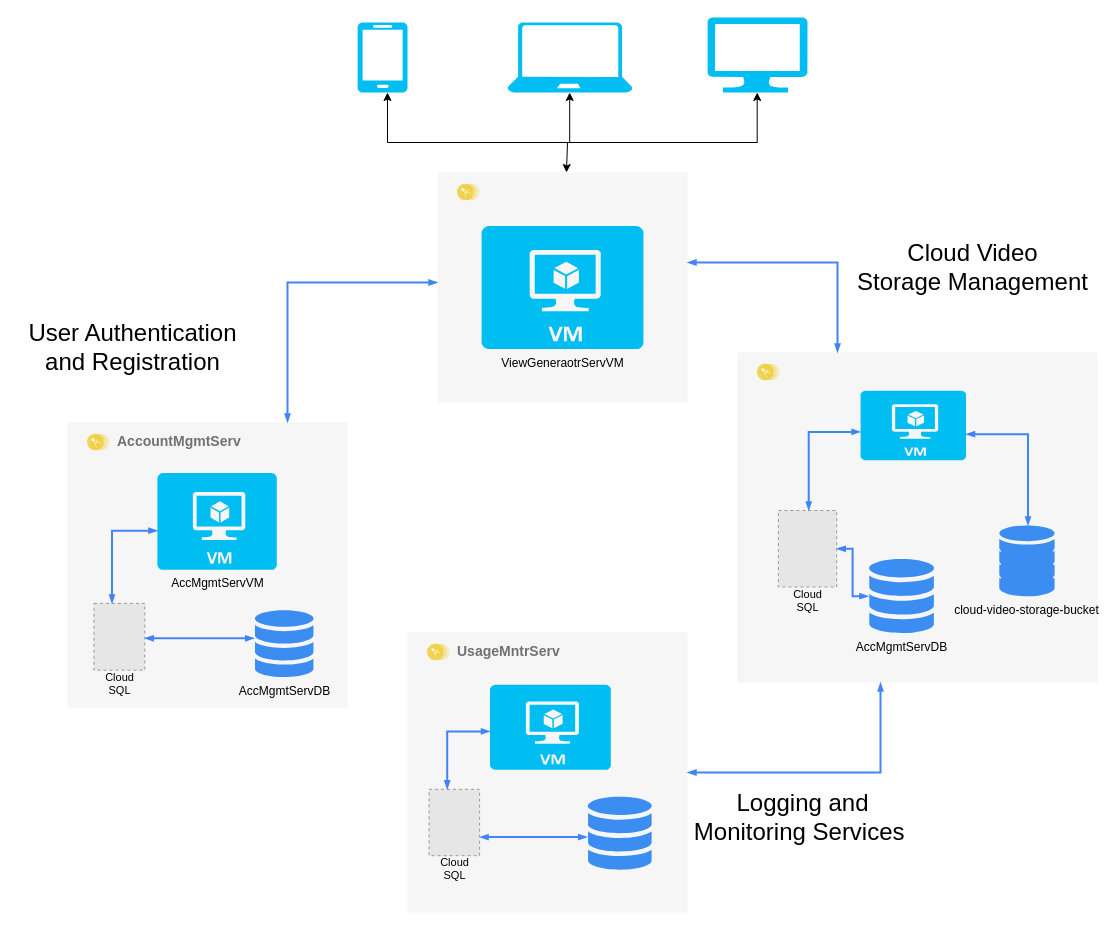
This 1116x929 diagram has some shape labels left out. Grey dashed boxes stand in for pictures. Here are the shapes that lost their labels. From the top down, the box of each, then its label:
(437, 172, 687, 402): ViewGeneratorServ
(860, 390, 966, 460): StrgMgmtServVM
(737, 352, 1097, 682): StorageMgmtServ
(490, 684, 610, 769): UsageMntrServVM
(587, 796, 653, 870): UsageMntrServDB
